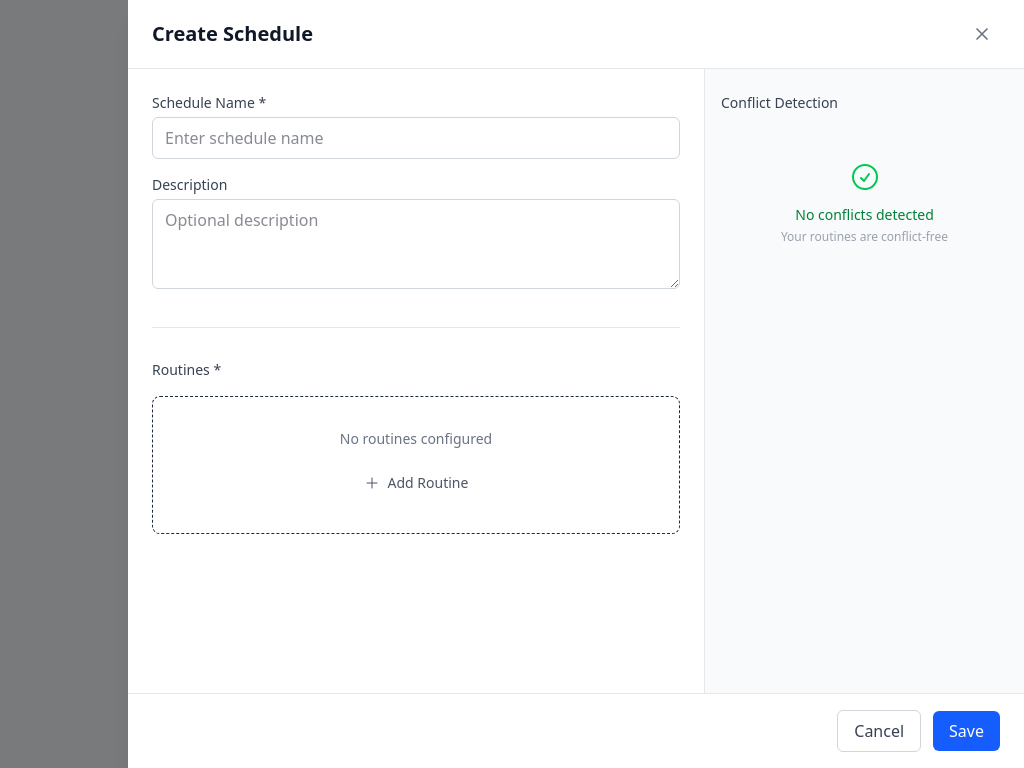
Scenario: ScheduleEditor › Validation › shows error when saving without name
The width and height of the screenshot is (1024, 768).
# Add a routine first
Click the button with test id "add-routine".
click(416, 483)  # box left=348, top=465, right=484, bottom=501
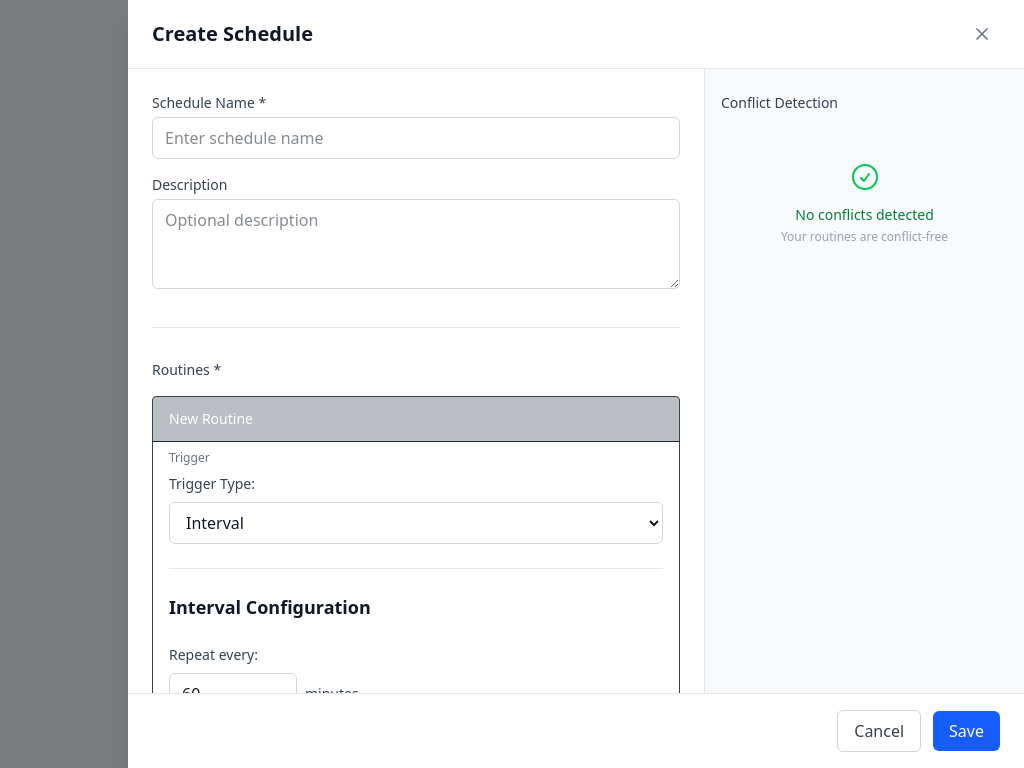
Click the button "Save".
click(967, 731)  # box left=933, top=711, right=1000, bottom=751
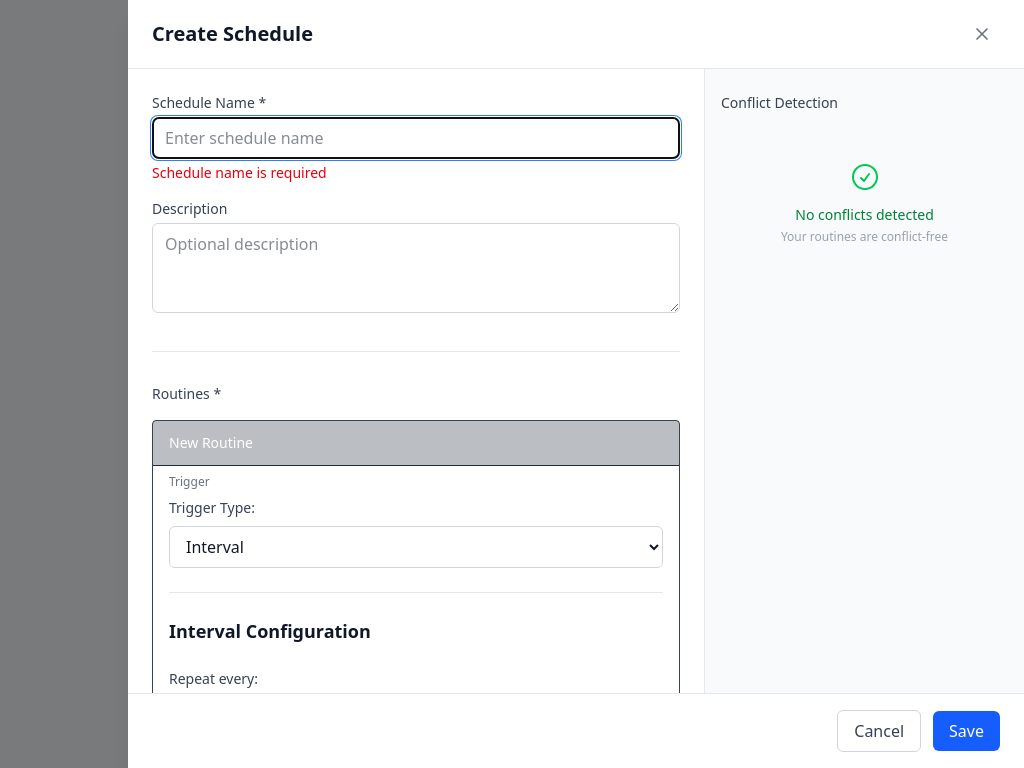
Now the text "Schedule name is required" is shown, box left=152, top=163, right=327, bottom=182
